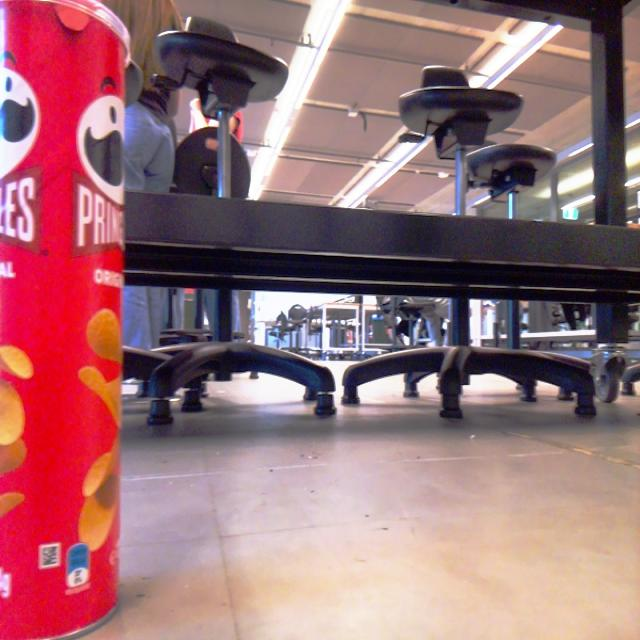redpringles: (1, 0, 125, 640)
